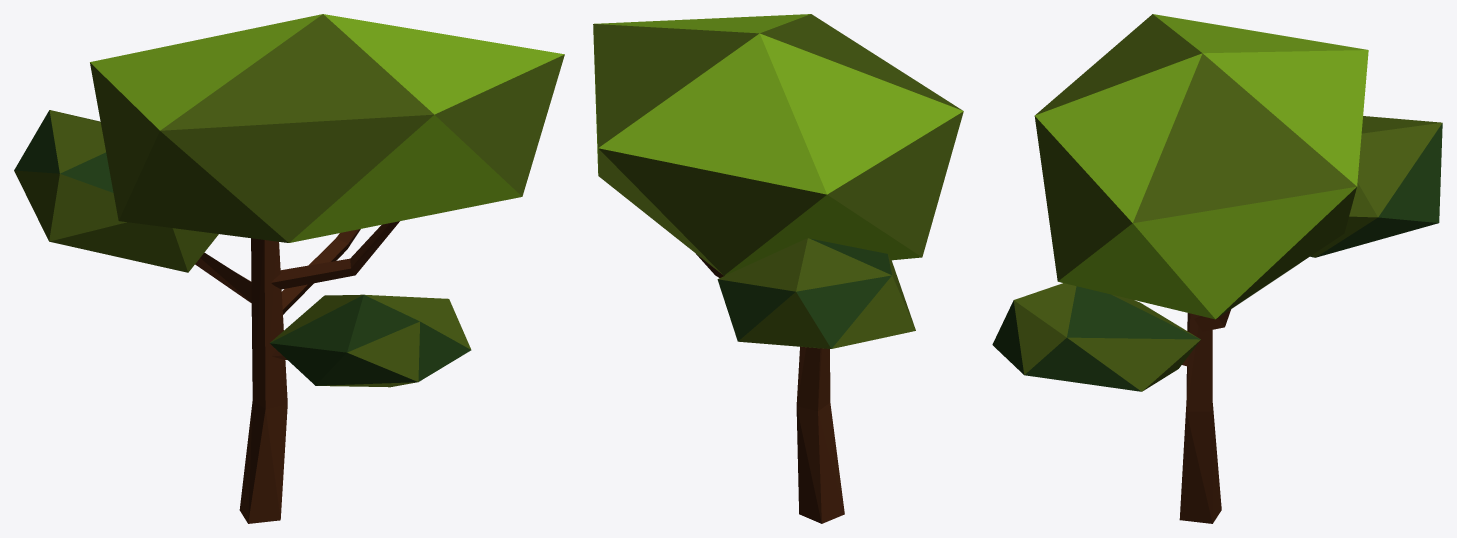
Rendered from Tree3_M2_6_big.fbx.
The picture shows the model from 3 angles, left to right: view 1: azimuth 30°, elevation 25°; view 2: azimuth 150°, elevation 25°; view 3: azimuth 270°, elevation 25°; orthographic projection. The views are drawn at different scales.
Visible parts, largest first — view 1: Tree3_M2_6_big; view 2: Tree3_M2_6_big; view 3: Tree3_M2_6_big.
Boxes of the visible parts, box(x1,y1,x2,y2) form: Tree3_M2_6_big: box(14, 14, 564, 523); Tree3_M2_6_big: box(593, 14, 963, 523); Tree3_M2_6_big: box(992, 14, 1442, 523).
Bounding box in the file's own units: 621 × 676 × 559.
